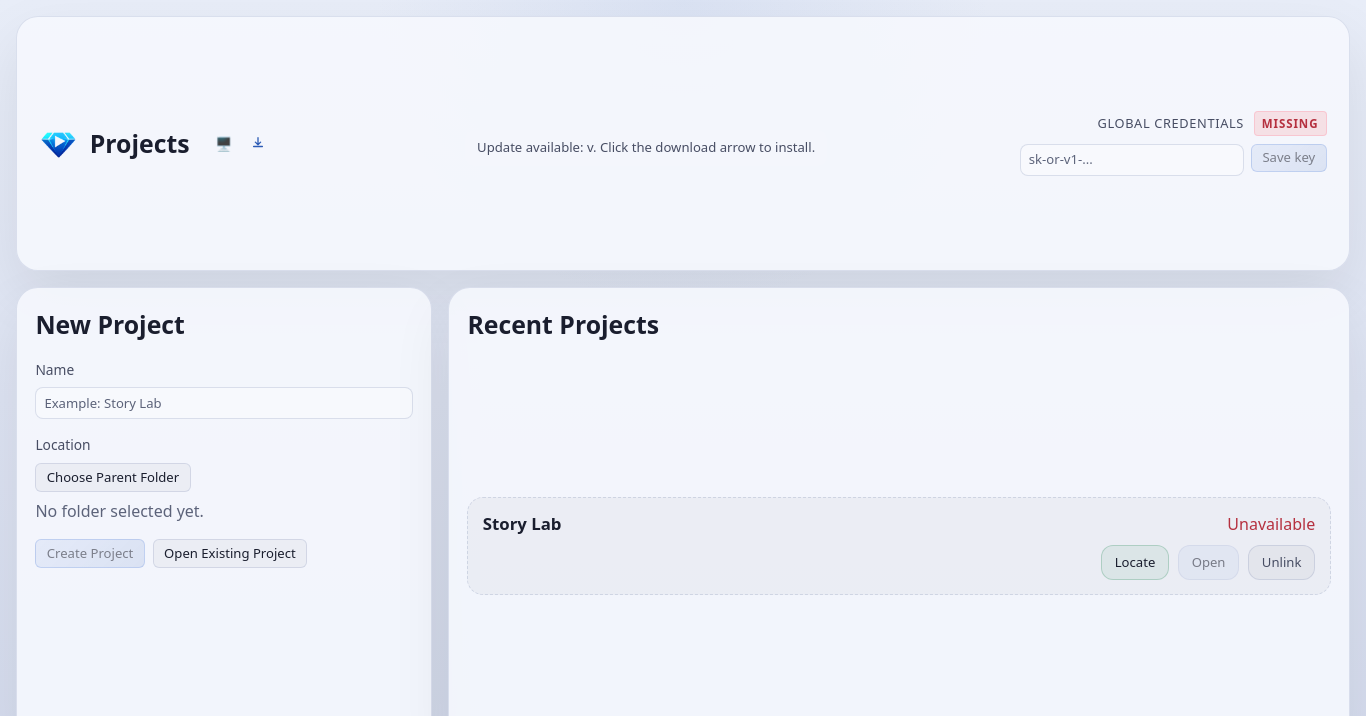
Test: App › runs a manifest pipeline from the sidebar
Click the button "Open Existing Project".
click(230, 553)  # box [153,539,307,568]
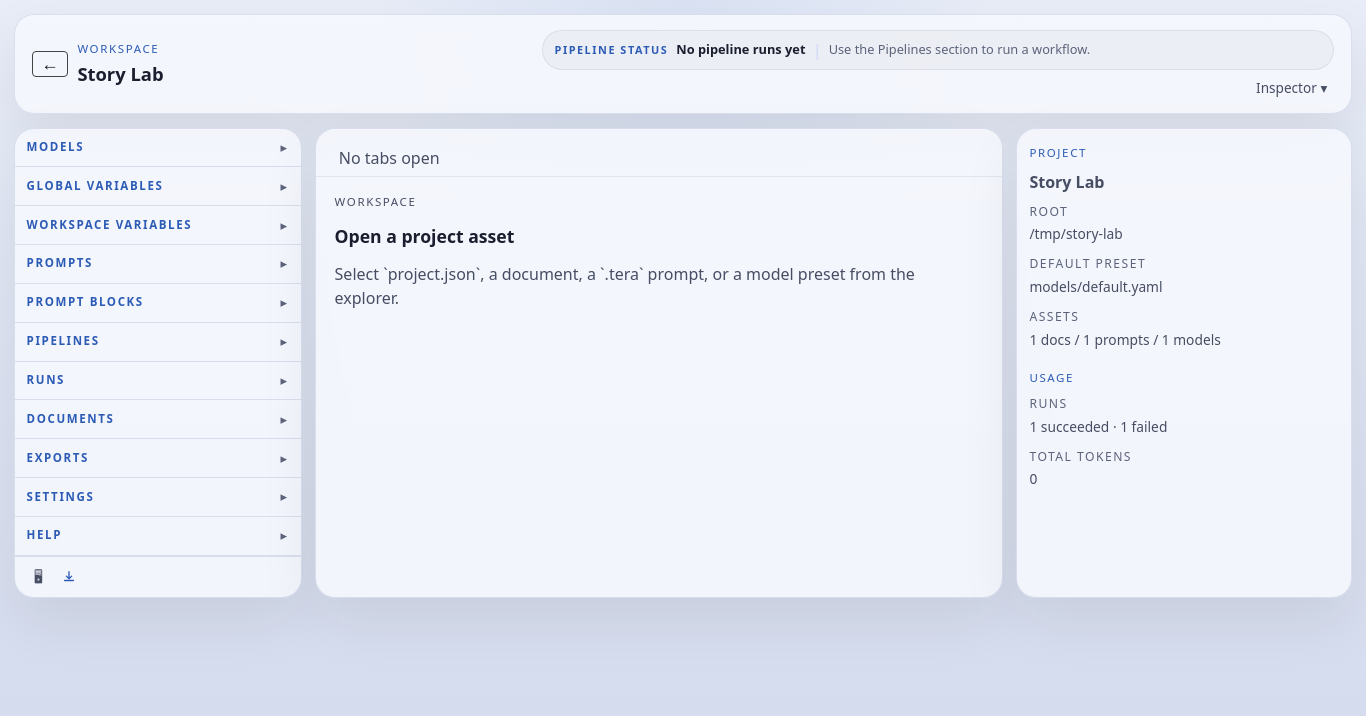
Check: the 1st heading "Story Lab" is shown, box [77,60,164,88]
Check: the button "Pipelines ▸" is shown
Click the button "Pipelines ▸".
click(63, 341)  # box [15,323,301,360]
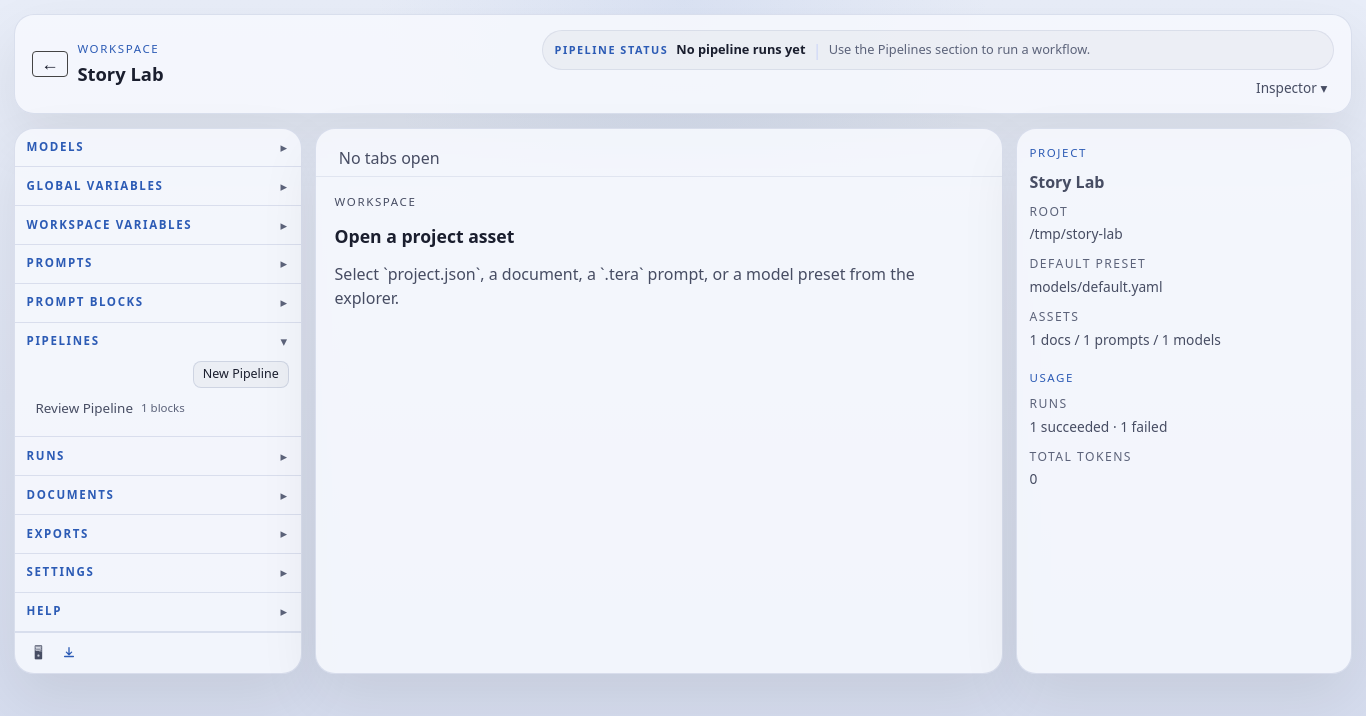
Check: the text "Review Pipeline" is shown
Click the text "Review Pipeline".
click(84, 408)  # box [35,400,133,417]
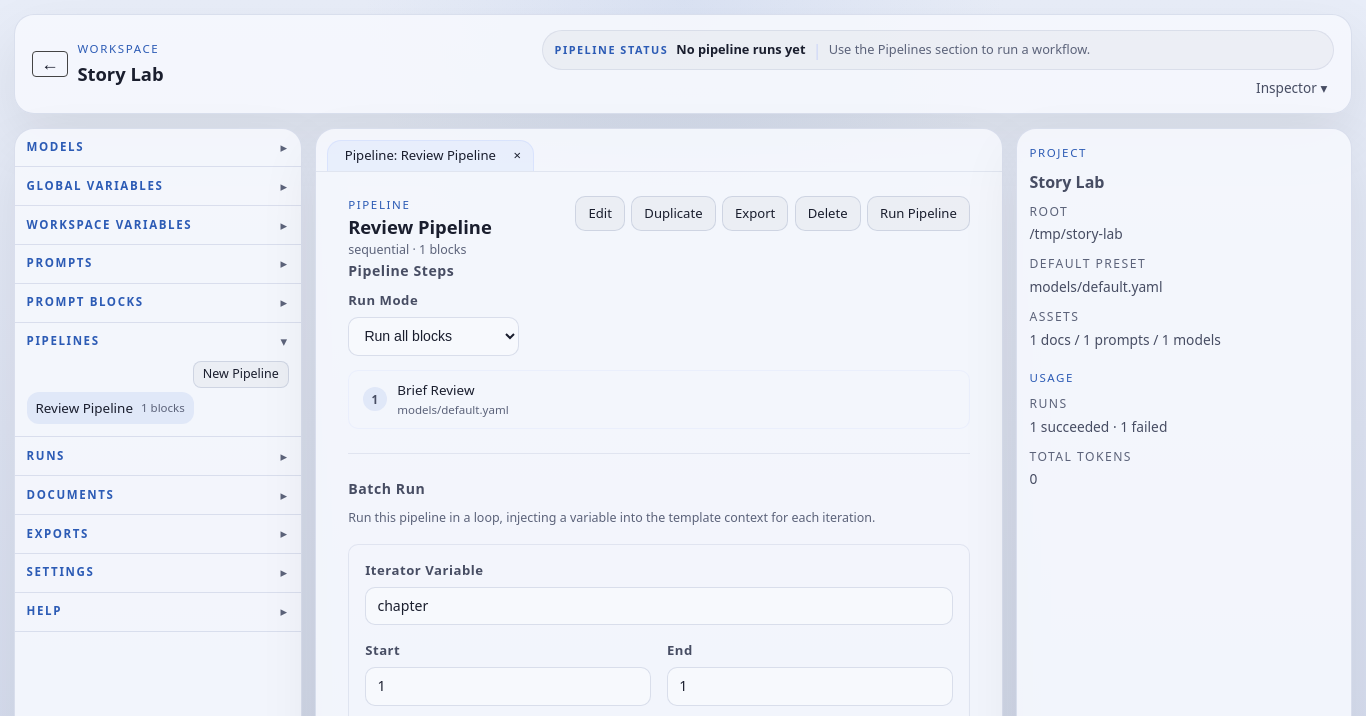
Click the button "Run Pipeline".
click(918, 214)  # box [867,196,970,231]
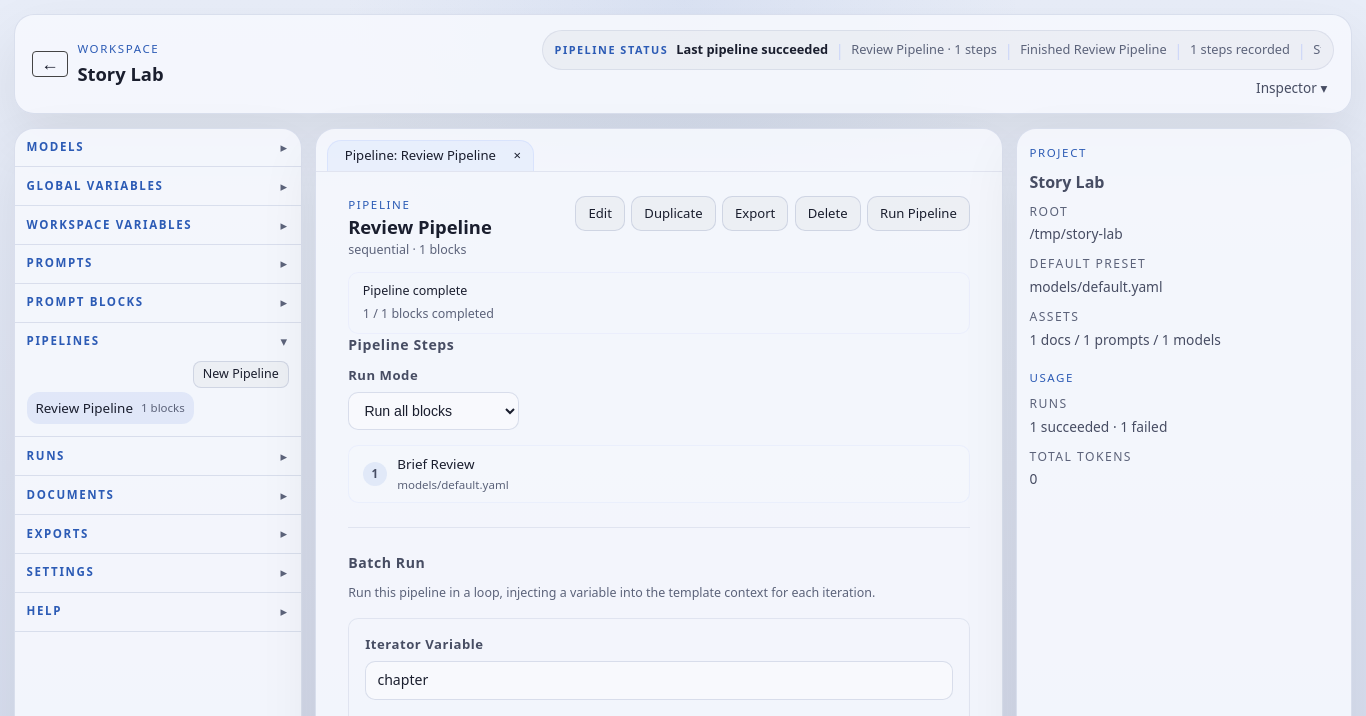
Check: the text "Pipeline complete" is shown, box [363,282,467,299]
Check: the text "1 / 1 blocks completed" is shown, box [363,305,494,322]
Check: the text "Last pipeline succeeded" is shown, box [676,40,828,60]
